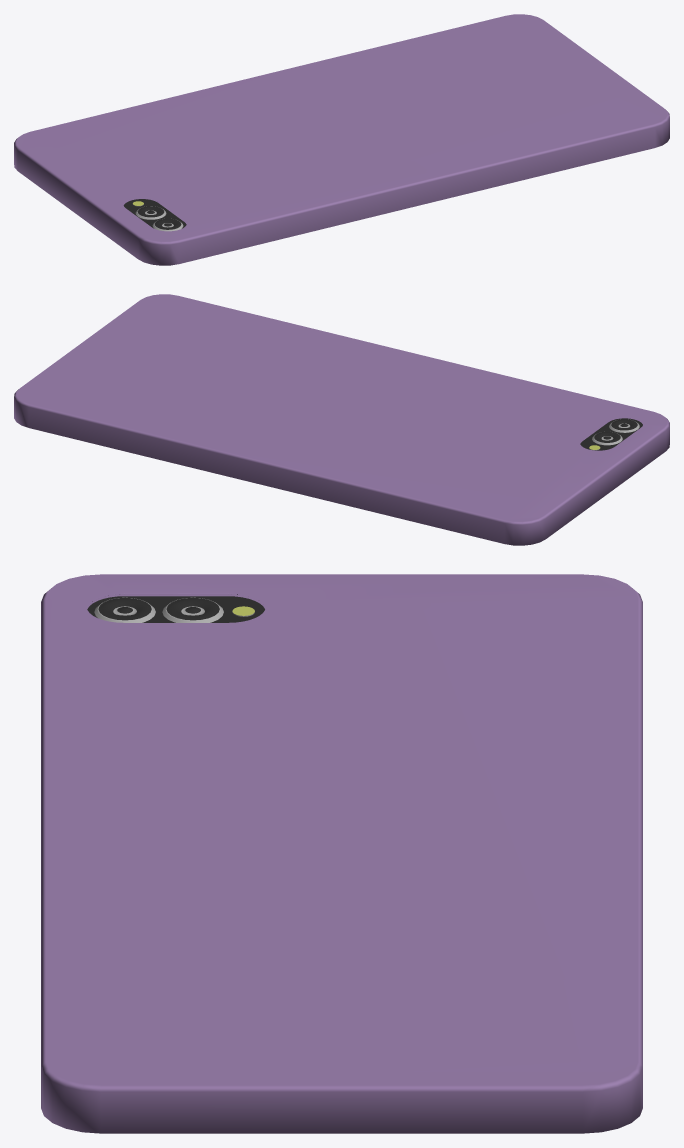
File: PhoneCase.fbx
The picture shows the model from 3 angles, top to bottom: view 1: azimuth 30°, elevation 25°; view 2: azimuth 150°, elevation 25°; view 3: azimuth 270°, elevation 25°; orthographic projection. The views are drawn at different scales.
Parts seen in each view (by area): view 1: pCube5; view 2: pCube5; view 3: pCube5.
Part boxes in pixels (left/top/right/bottom): pCube5: left=14, top=14, right=669, bottom=265; pCube5: left=14, top=294, right=669, bottom=545; pCube5: left=41, top=574, right=642, bottom=1133.
Size of the model in its own units: 16.26 by 0.68 by 8.03.
